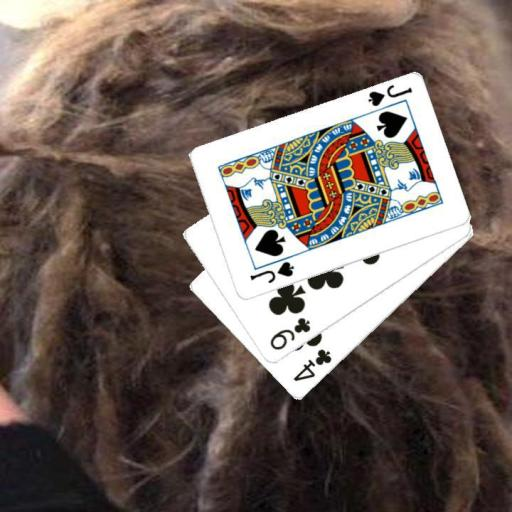4C: (290, 346, 334, 383)
9C: (267, 314, 312, 353)
JS: (247, 258, 296, 286), (365, 82, 414, 108)
